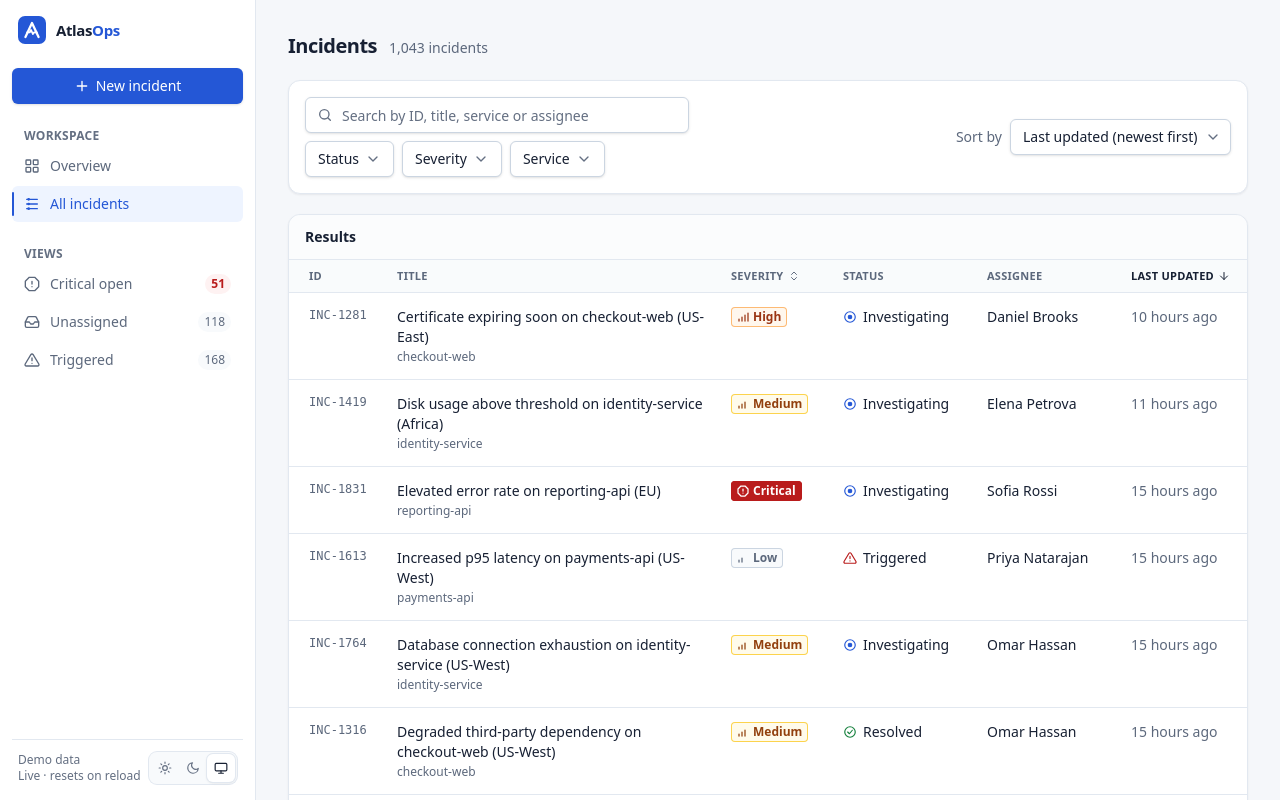
Test: Accessibility sweep › an open filter menu has no violations
The image size is (1280, 800).
Step 1. Click the button with aria-label "Status filter" → (350,159), box [305,141,394,177]
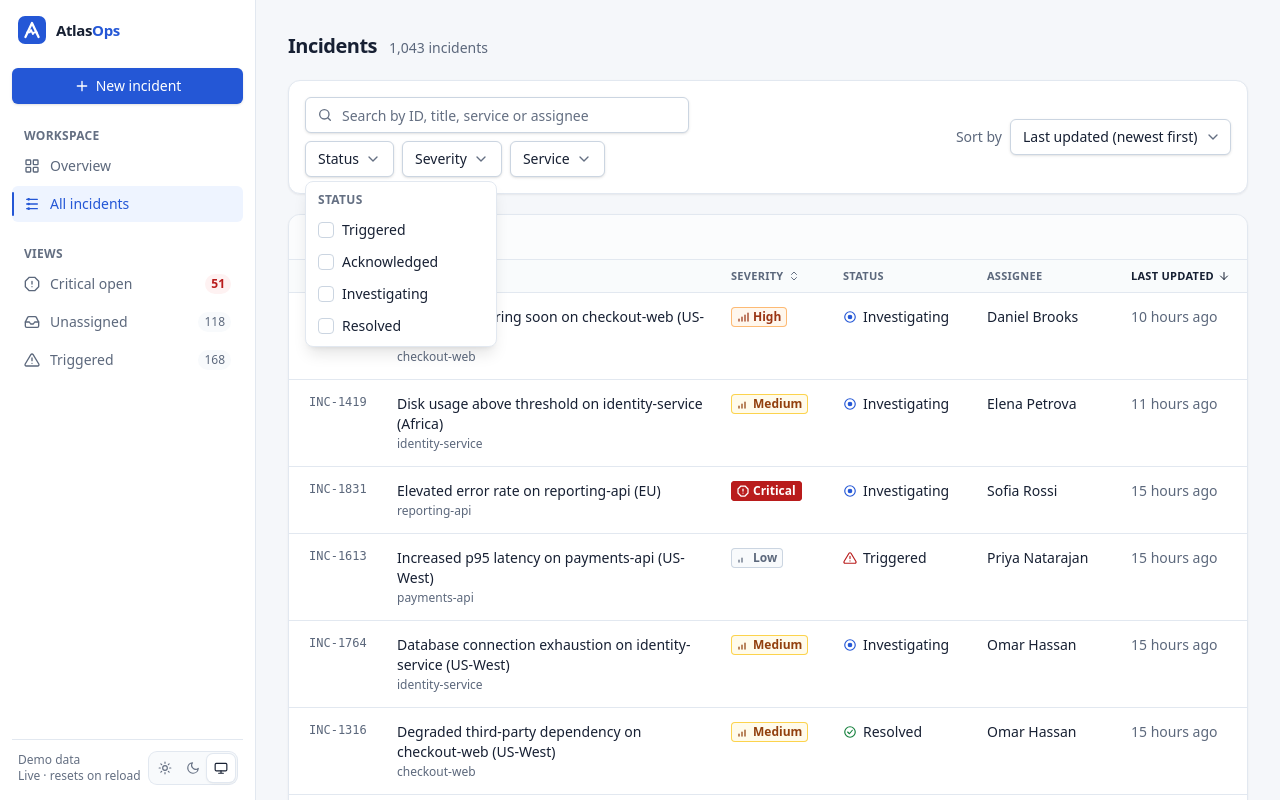
expect the menu is shown: met, box [305,181,497,347]
